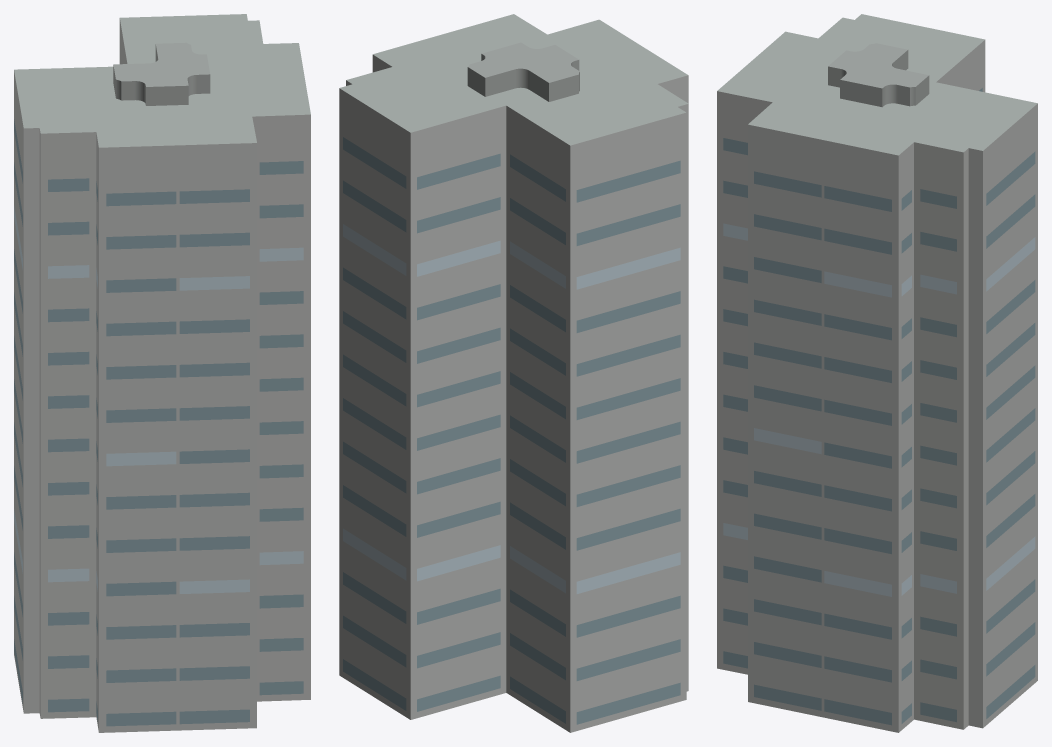
File: fallback-banpo-xi-127.glb
3 renders of one model, left to right at view 1: azimuth 30°, elevation 25°; view 2: azimuth 150°, elevation 25°; view 3: azimuth 270°, elevation 25°, orthographic.
Parts seen in each view (by area): view 1: fallback-banpo-xi-127; view 2: fallback-banpo-xi-127; view 3: fallback-banpo-xi-127.
Part boxes in pixels (bbox=[...]): fallback-banpo-xi-127: bbox=[14, 14, 310, 732]; fallback-banpo-xi-127: bbox=[339, 14, 688, 732]; fallback-banpo-xi-127: bbox=[717, 14, 1037, 732].
Bounding box in the file's own units: 38.7 × 76 × 37.08.
